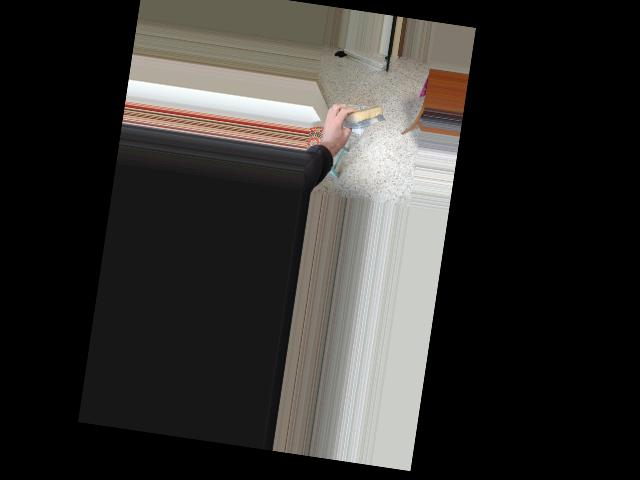cheese: (324, 99, 389, 135)
